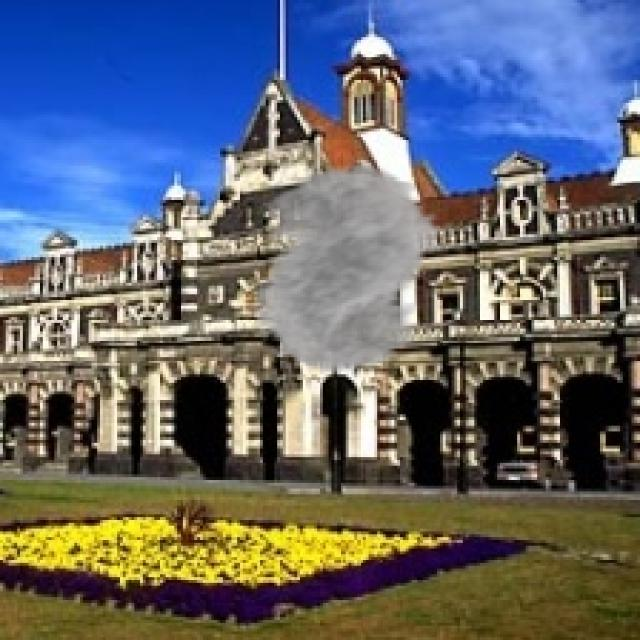smoke: (226, 163, 460, 374)
